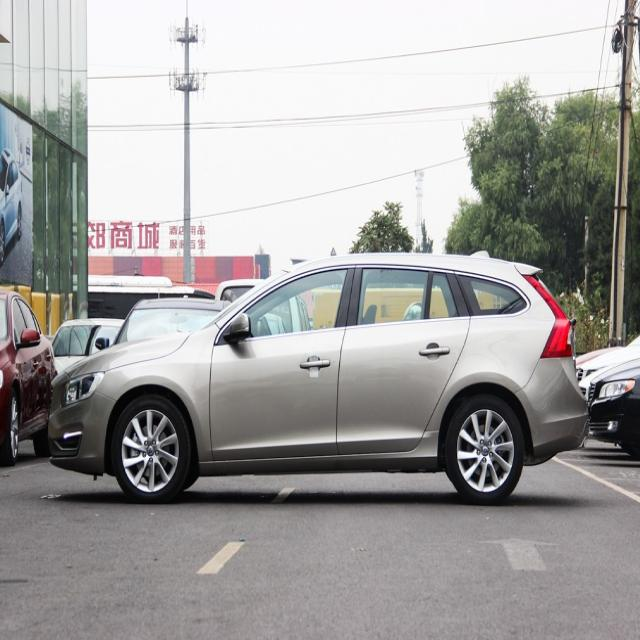back_left_side_light: (522, 272, 575, 358)
door: (339, 264, 471, 456)
front_bumper: (46, 390, 117, 478)
front_left_side_door: (208, 261, 358, 469)
front_left_side_light: (59, 369, 107, 411)
front_left_side_mirror: (228, 310, 252, 341)
rear_bumper: (513, 354, 590, 457)
wheel: (446, 392, 524, 502), (113, 395, 190, 502)
